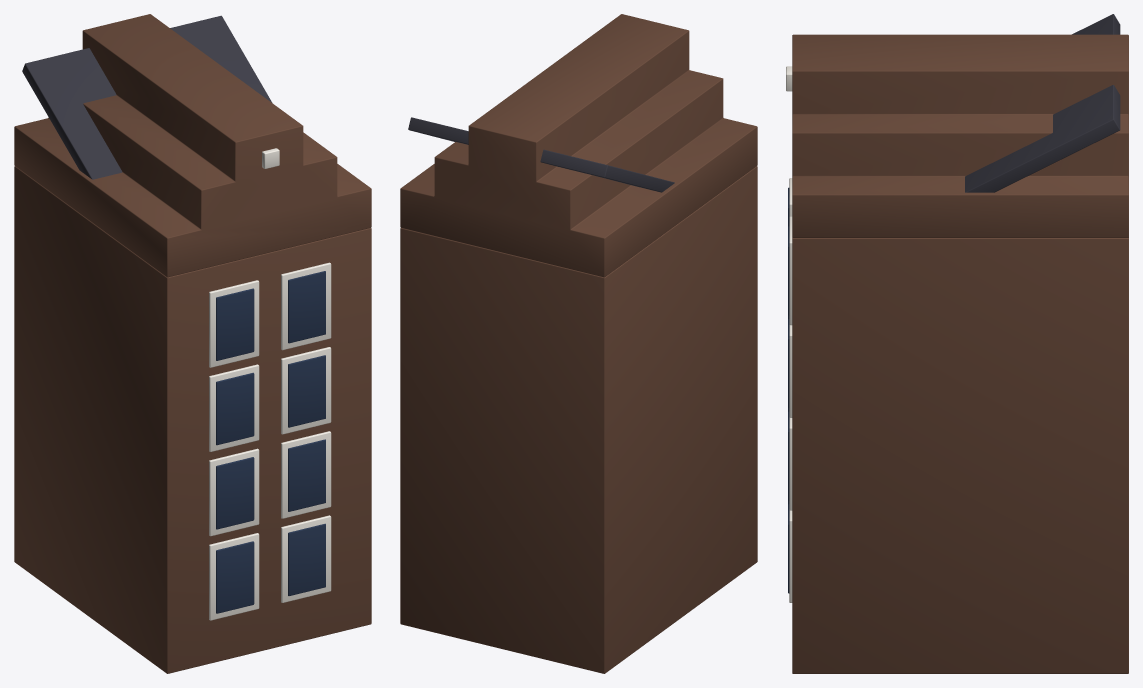
The model's file is rg_holanda_3.glb.
The picture shows the model from 3 angles, left to right: view 1: azimuth 30°, elevation 25°; view 2: azimuth 150°, elevation 25°; view 3: azimuth 270°, elevation 25°; orthographic projection. The views are drawn at different scales.
Visible parts, largest first — view 1: rg_holanda_3; view 2: rg_holanda_3; view 3: rg_holanda_3.
Part boxes in pixels (left/top/right/bottom): rg_holanda_3: left=14, top=14, right=371, bottom=673; rg_holanda_3: left=400, top=14, right=757, bottom=673; rg_holanda_3: left=786, top=14, right=1128, bottom=673.
Bounding box in the file's own units: 5.4 × 13 × 7.13.
